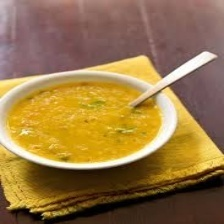dal: (3, 77, 169, 170)
